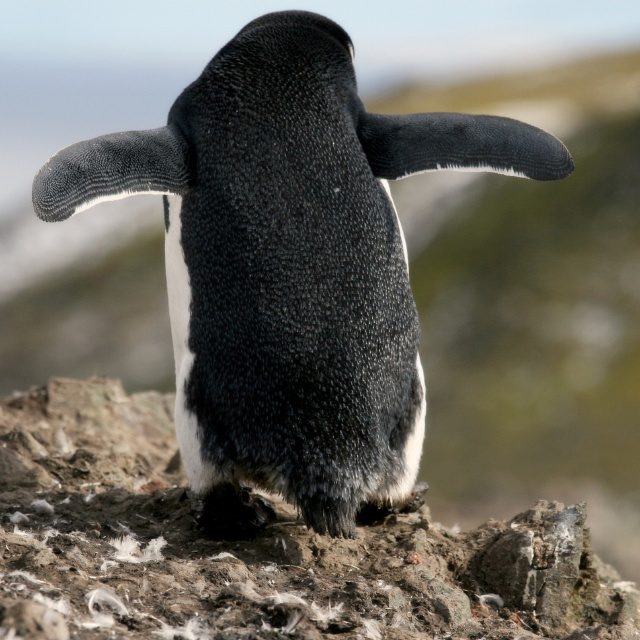Penguin: (32, 9, 576, 540)
